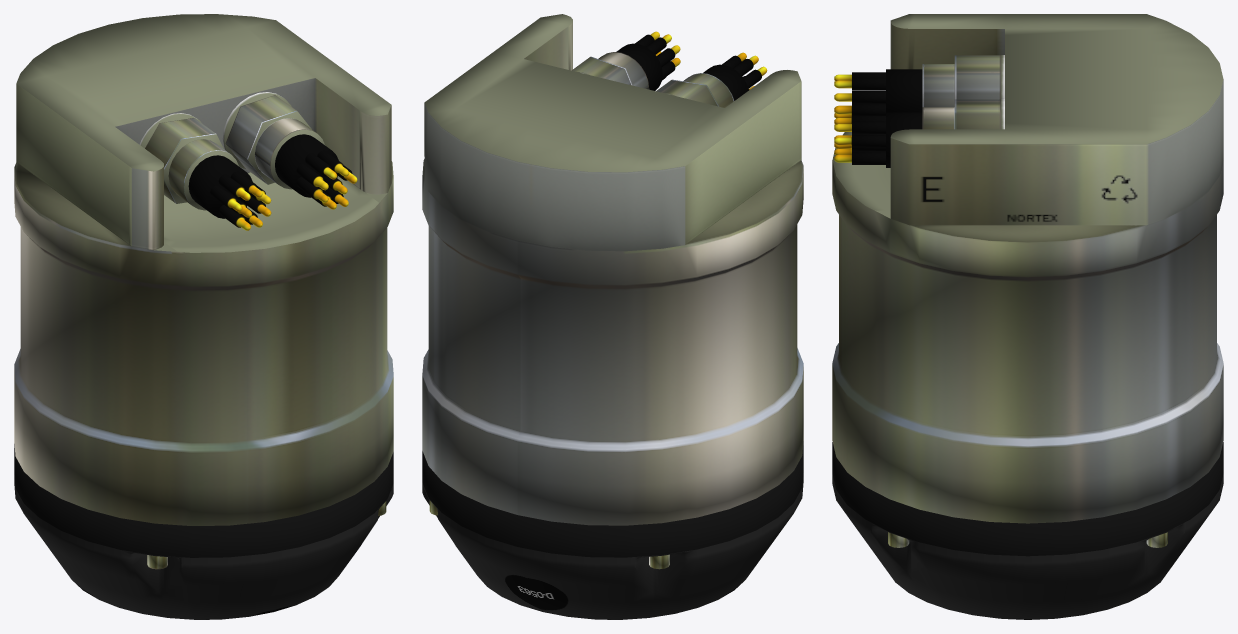
Rendered from DVL1000-4000m.dae.
3 renders of one model, left to right at view 1: azimuth 30°, elevation 25°; view 2: azimuth 150°, elevation 25°; view 3: azimuth 270°, elevation 25°, orthographic. The views are drawn at different scales.
Visible parts, largest first — view 1: DVL1000-4000m; view 2: DVL1000-4000m; view 3: DVL1000-4000m.
Part boxes in pixels (x1,y1,x2,y2): DVL1000-4000m: (14,14,393,619); DVL1000-4000m: (422,14,803,619); DVL1000-4000m: (832,14,1223,619).
Size of the model in its own units: 0.114 by 0.114 by 0.1641.
Materials: 1 (1 with a texture image).
